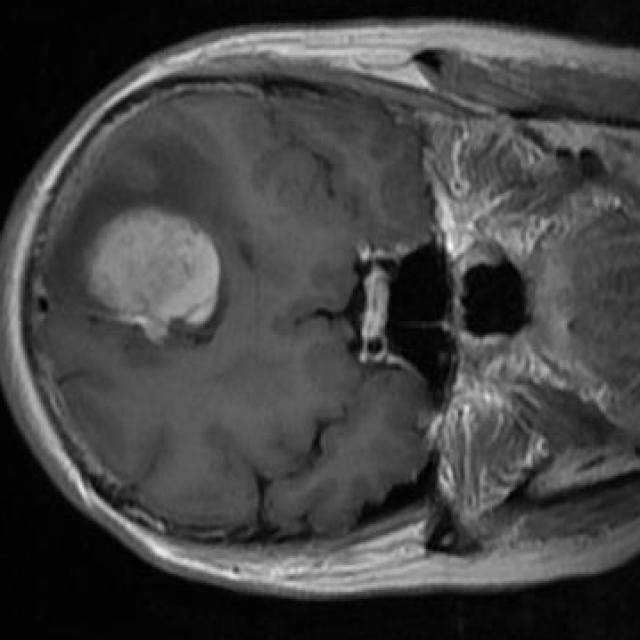meningioma: (87, 209, 221, 348)
